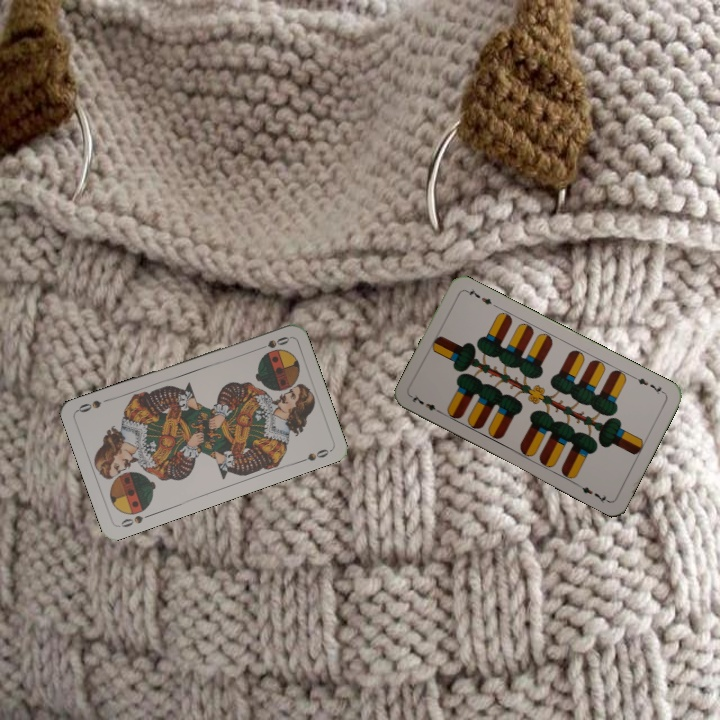E7: (407, 391, 445, 417), (630, 372, 668, 397)
SO: (252, 332, 292, 353), (115, 510, 155, 530)
